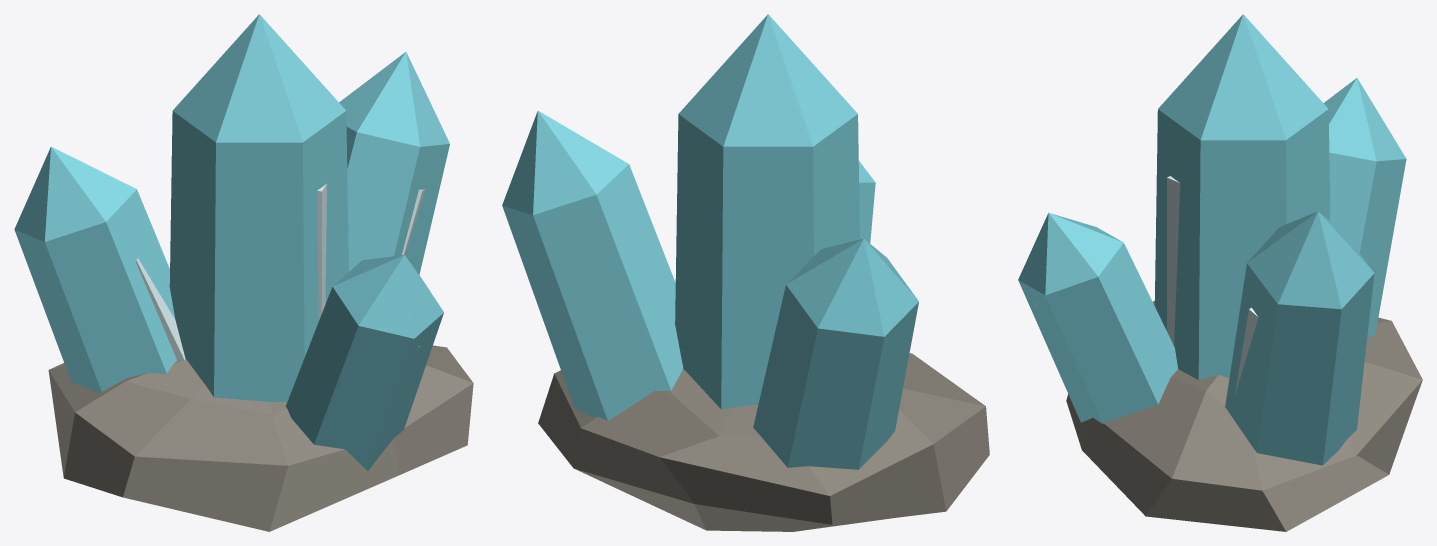
File: mat-crystal.glb
The picture shows the model from 3 angles, left to right: view 1: azimuth 30°, elevation 25°; view 2: azimuth 150°, elevation 25°; view 3: azimuth 270°, elevation 25°; orthographic projection. The views are drawn at different scales.
Parts seen in each view (by area): view 1: mat; view 2: mat; view 3: mat.
Boxes of the visible parts, x1,y1,x2,y2 form: mat: (14, 14, 473, 531); mat: (502, 14, 989, 531); mat: (1018, 14, 1422, 531).
Size of the model in its own units: 0.2972 by 0.33 by 0.2702.
